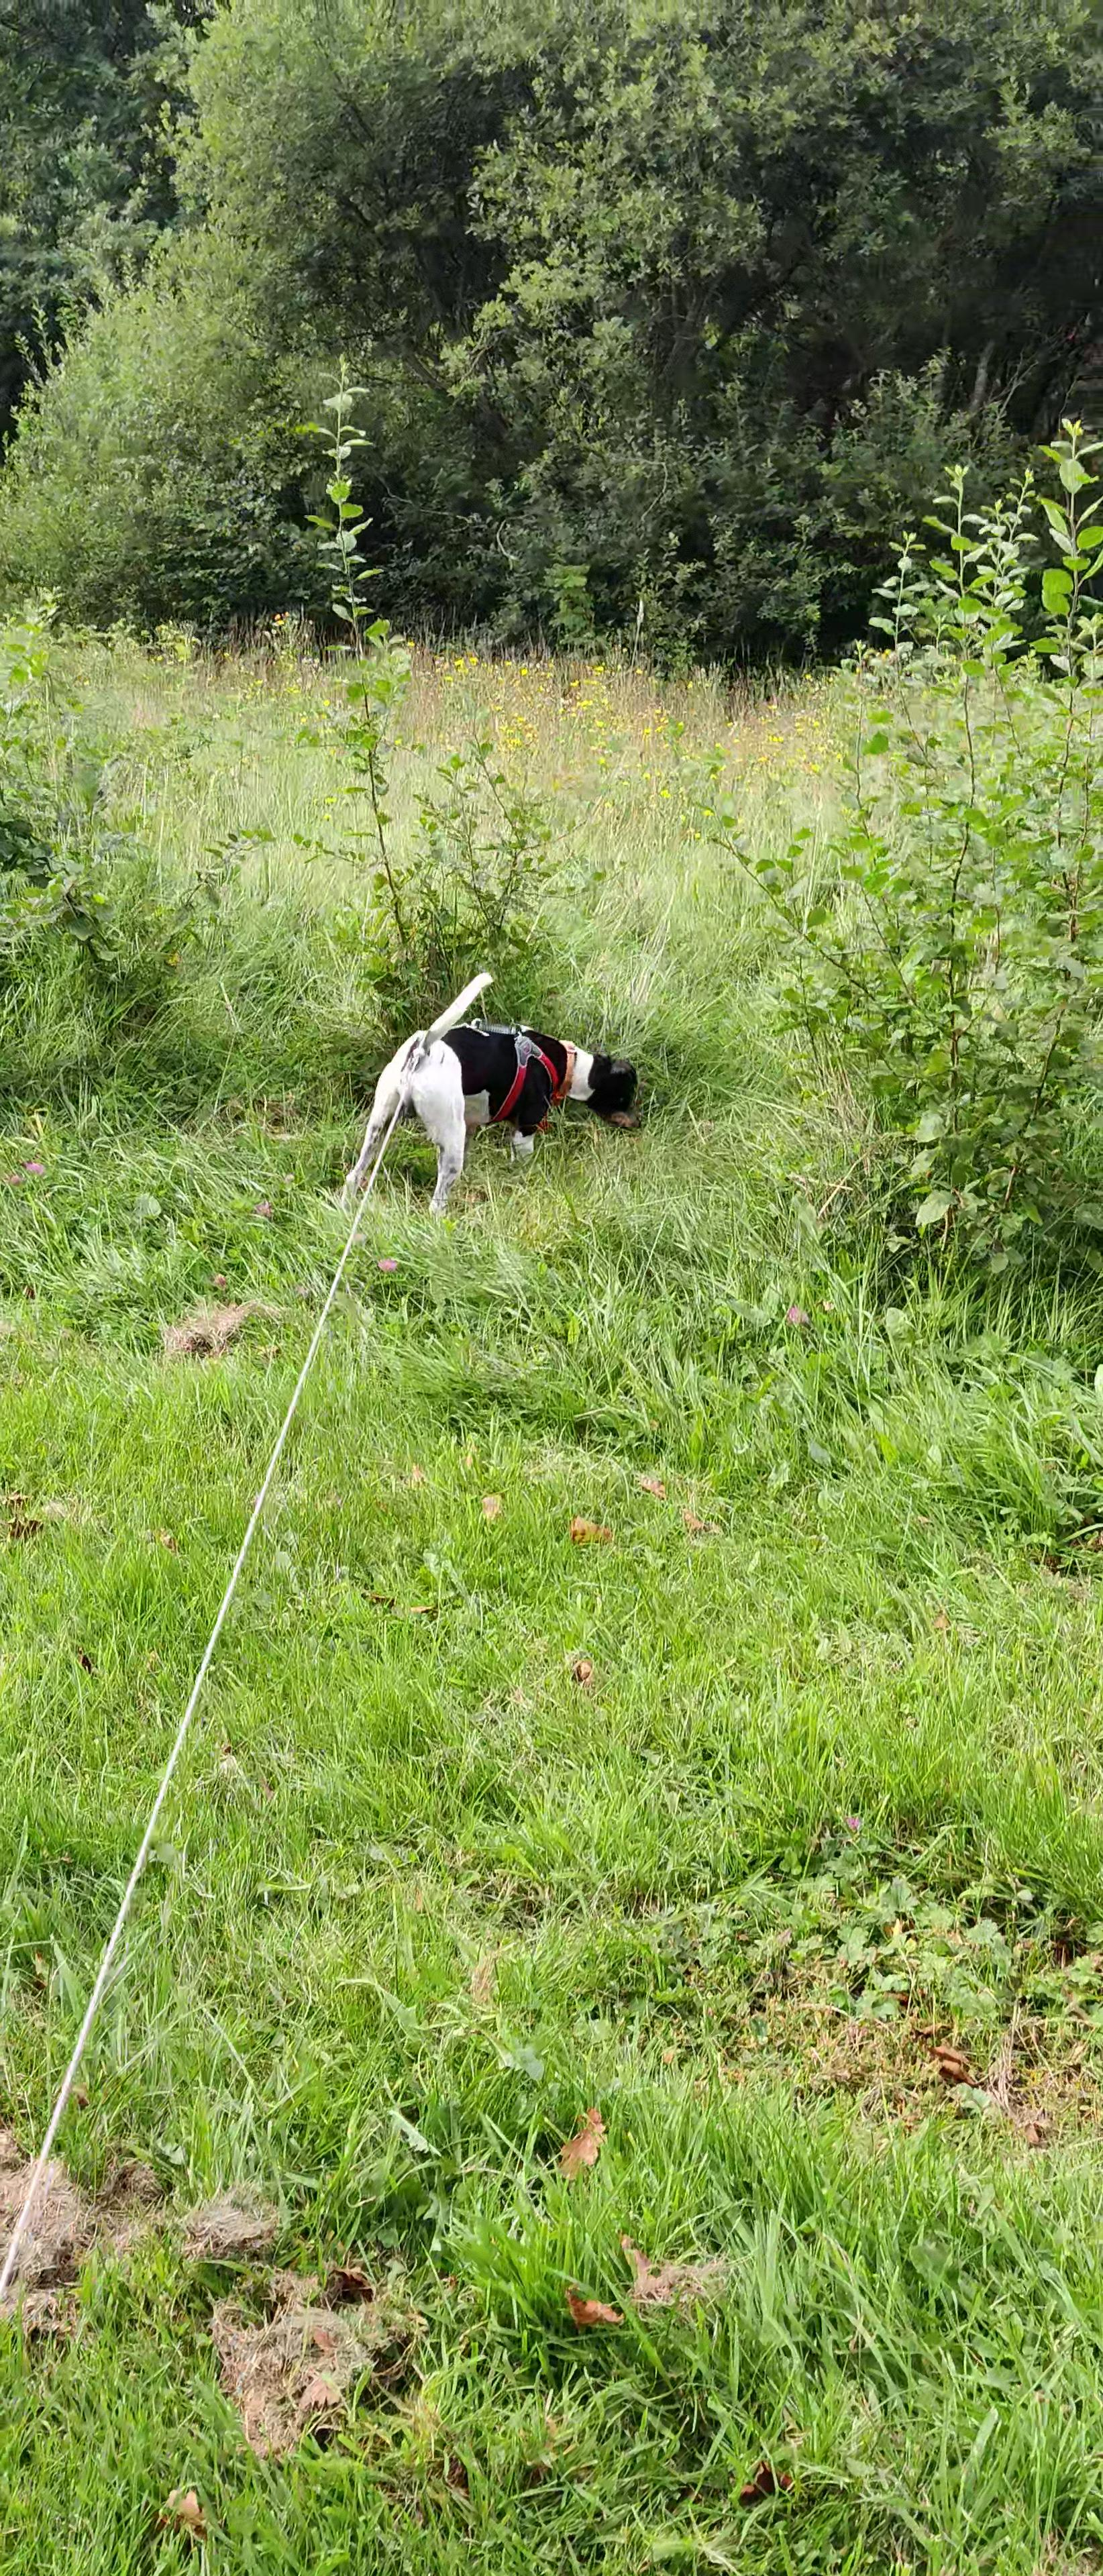Dog: (314, 951, 676, 1235)
